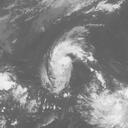cyclone: (43, 28, 81, 96)
